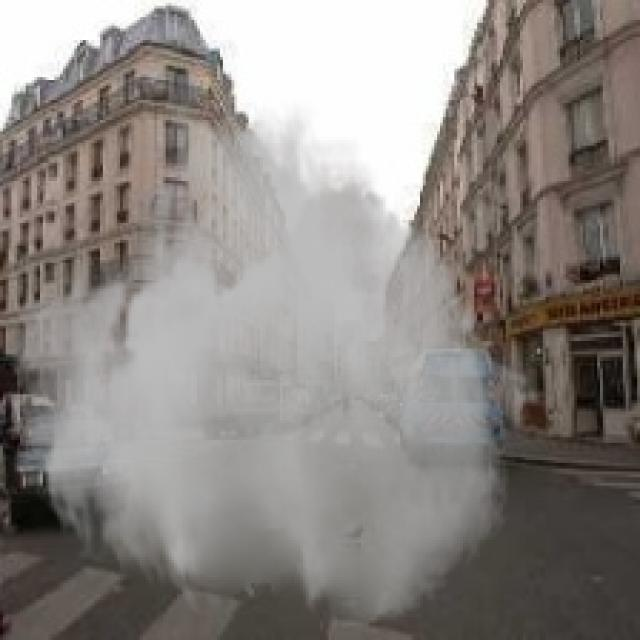smoke: (6, 89, 540, 632)
